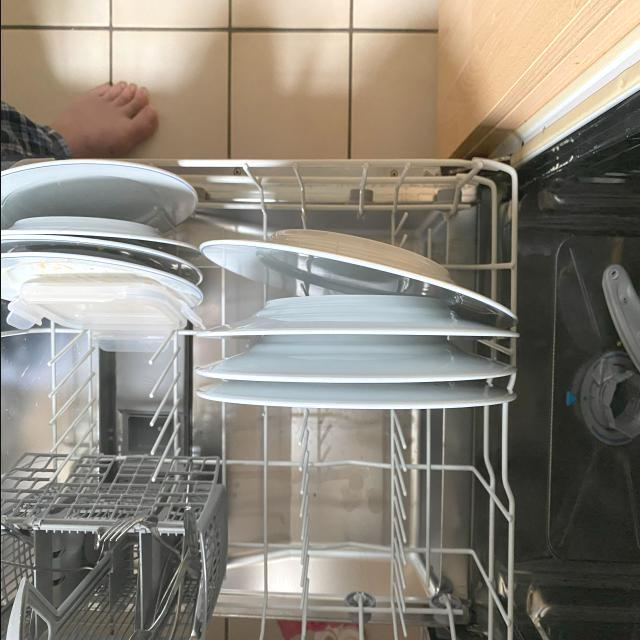clutery_bin: (0, 509, 183, 640)
empty_slot: (232, 413, 509, 636), (14, 337, 190, 470)
